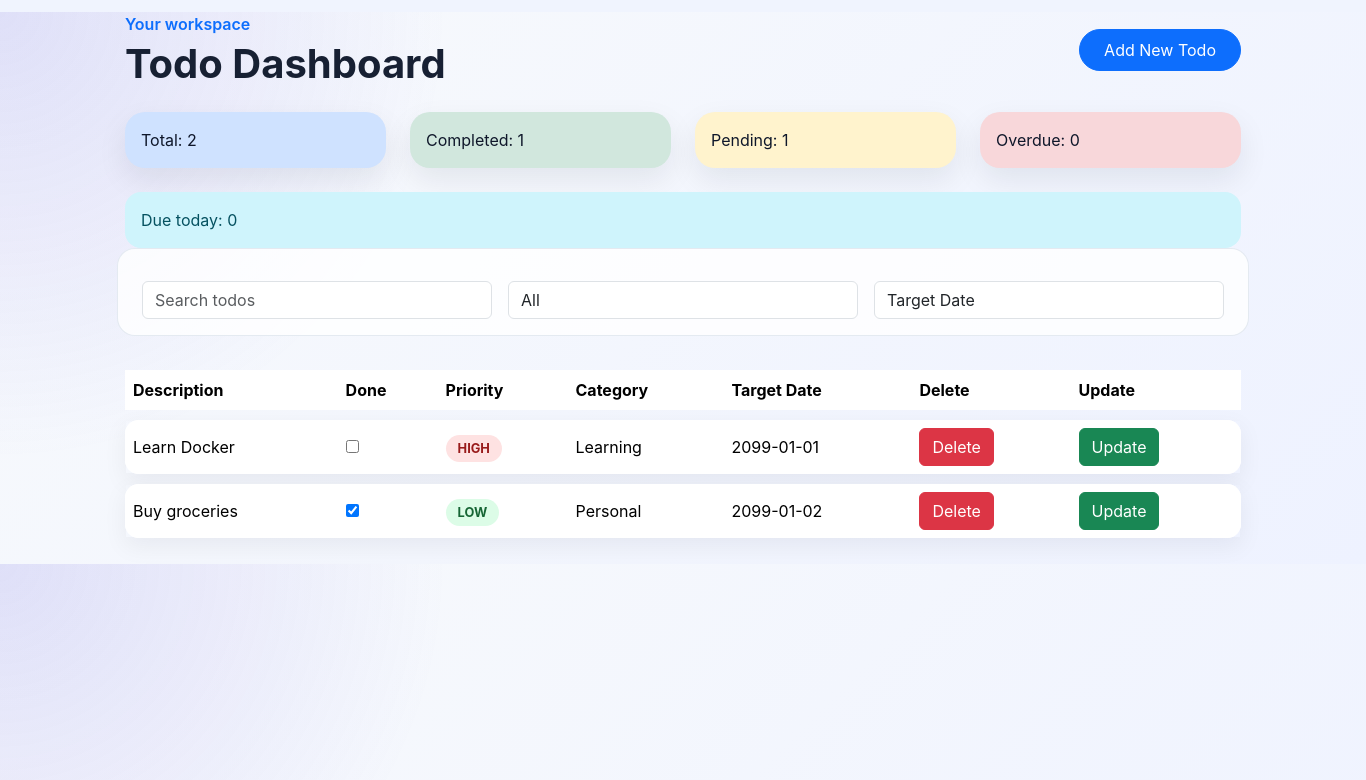
Scenario: filters completed todos
The image size is (1366, 780).
Check: the text "Learn Docker" is shown, box [125,420,338,474]
Select "Completed" in the 1st dropdown showing "all" at (683, 300), box [508,281,858,319]
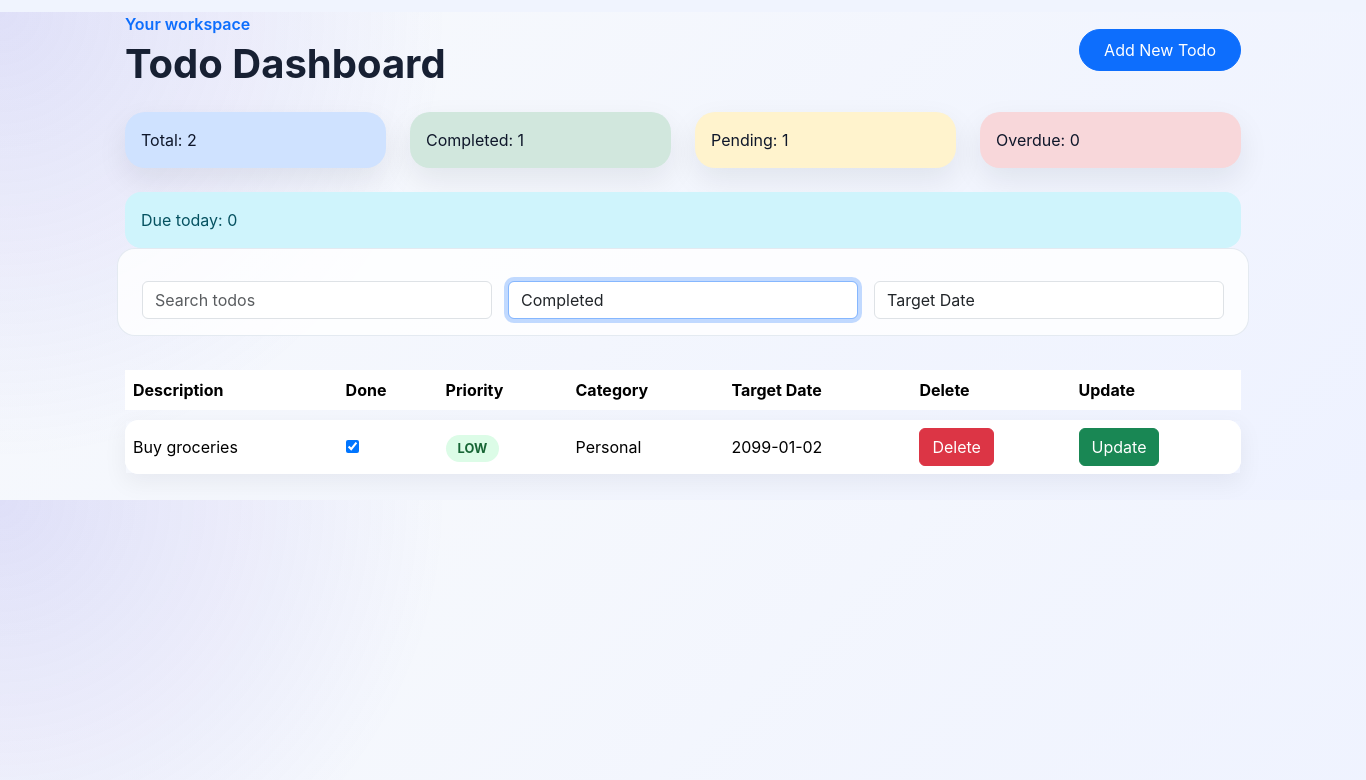
Check: the text "Buy groceries" is shown, box [125,420,338,474]
Check: the text "Learn Docker" is gone
